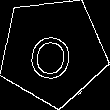O_N: (27, 22, 79, 81)
